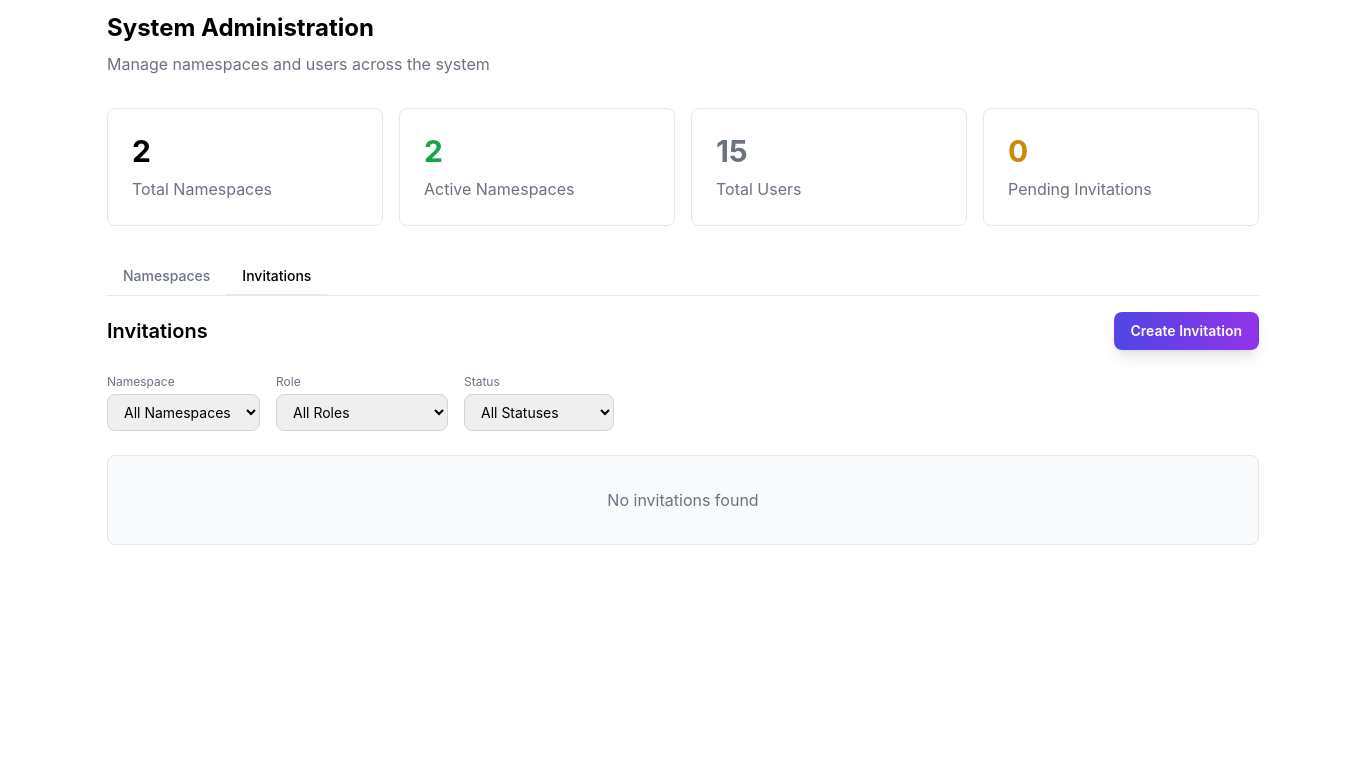
Test: SystemAdminPage › Invitations Tab › shows create invitation form when button clicked
Click the button "Create Invitation": {"x": 1186, "y": 331} x1=1114 y1=312 x2=1259 y2=350
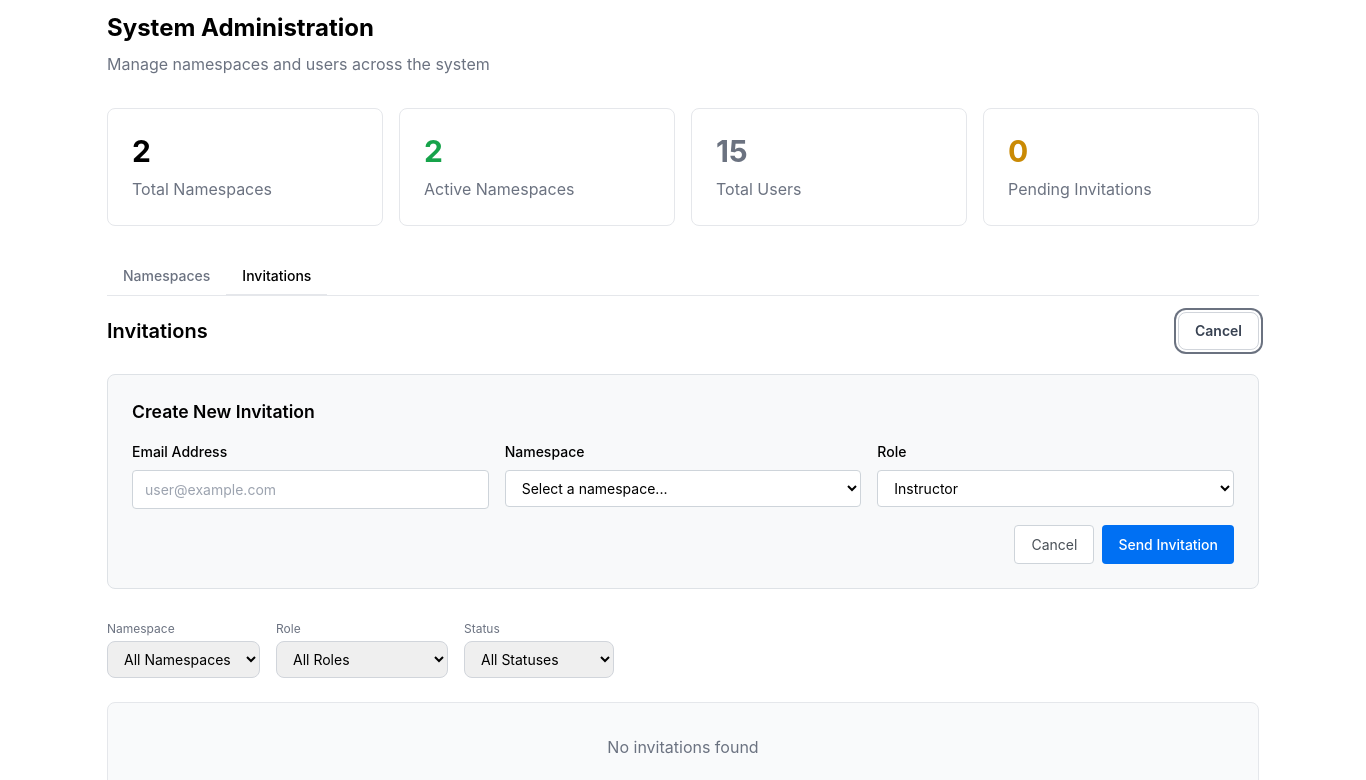
Expected: the heading "Create New Invitation" is shown, x1=132 y1=401 x2=315 y2=422
Expected: the field with placeholder "user@example.com" is shown, x1=132 y1=470 x2=489 y2=509
Expected: the button "Send Invitation" is shown, x1=1102 y1=525 x2=1234 y2=564
